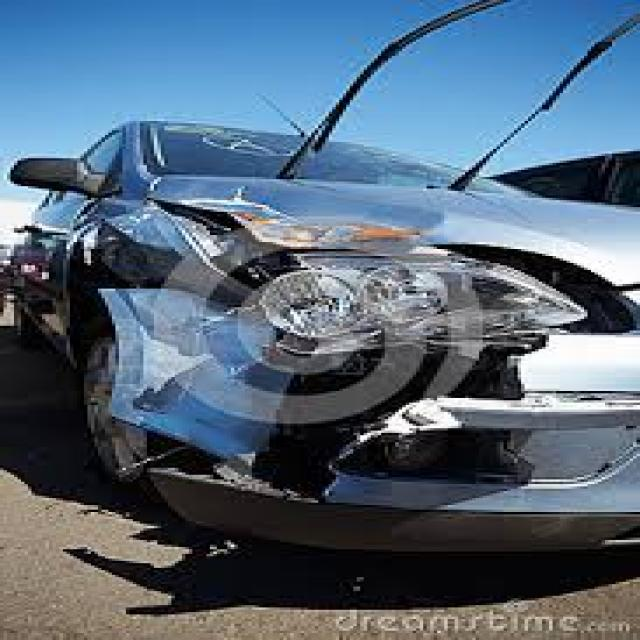moderate: (57, 93, 583, 557)
